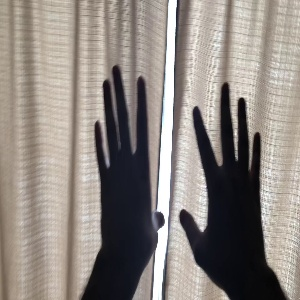hand: (179, 83, 269, 275), (94, 65, 165, 242)
